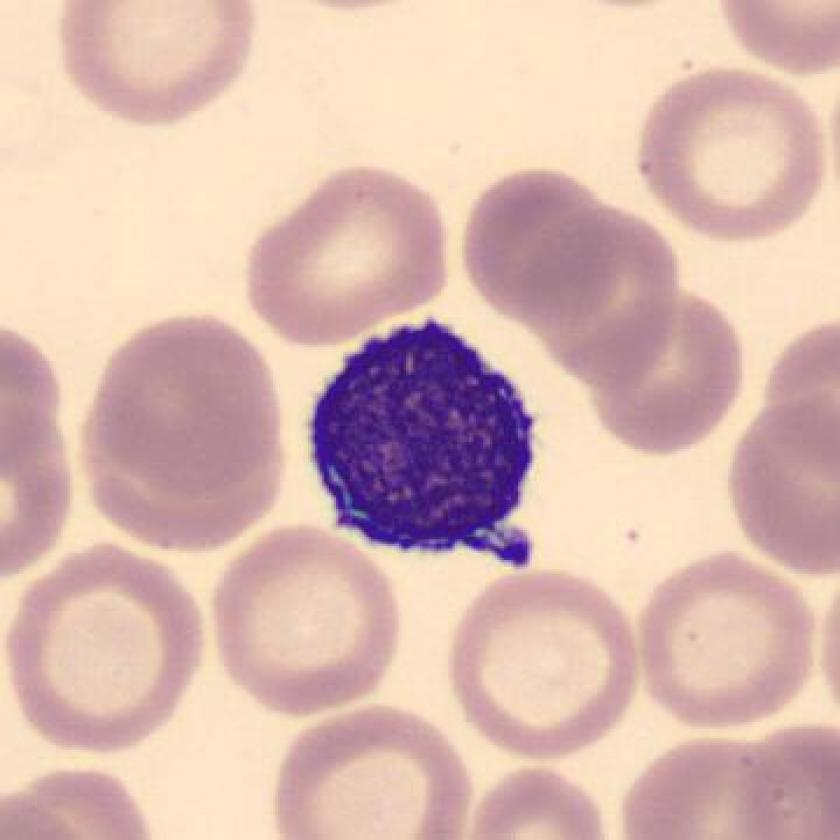lymphocyte: (298, 311, 557, 589)
